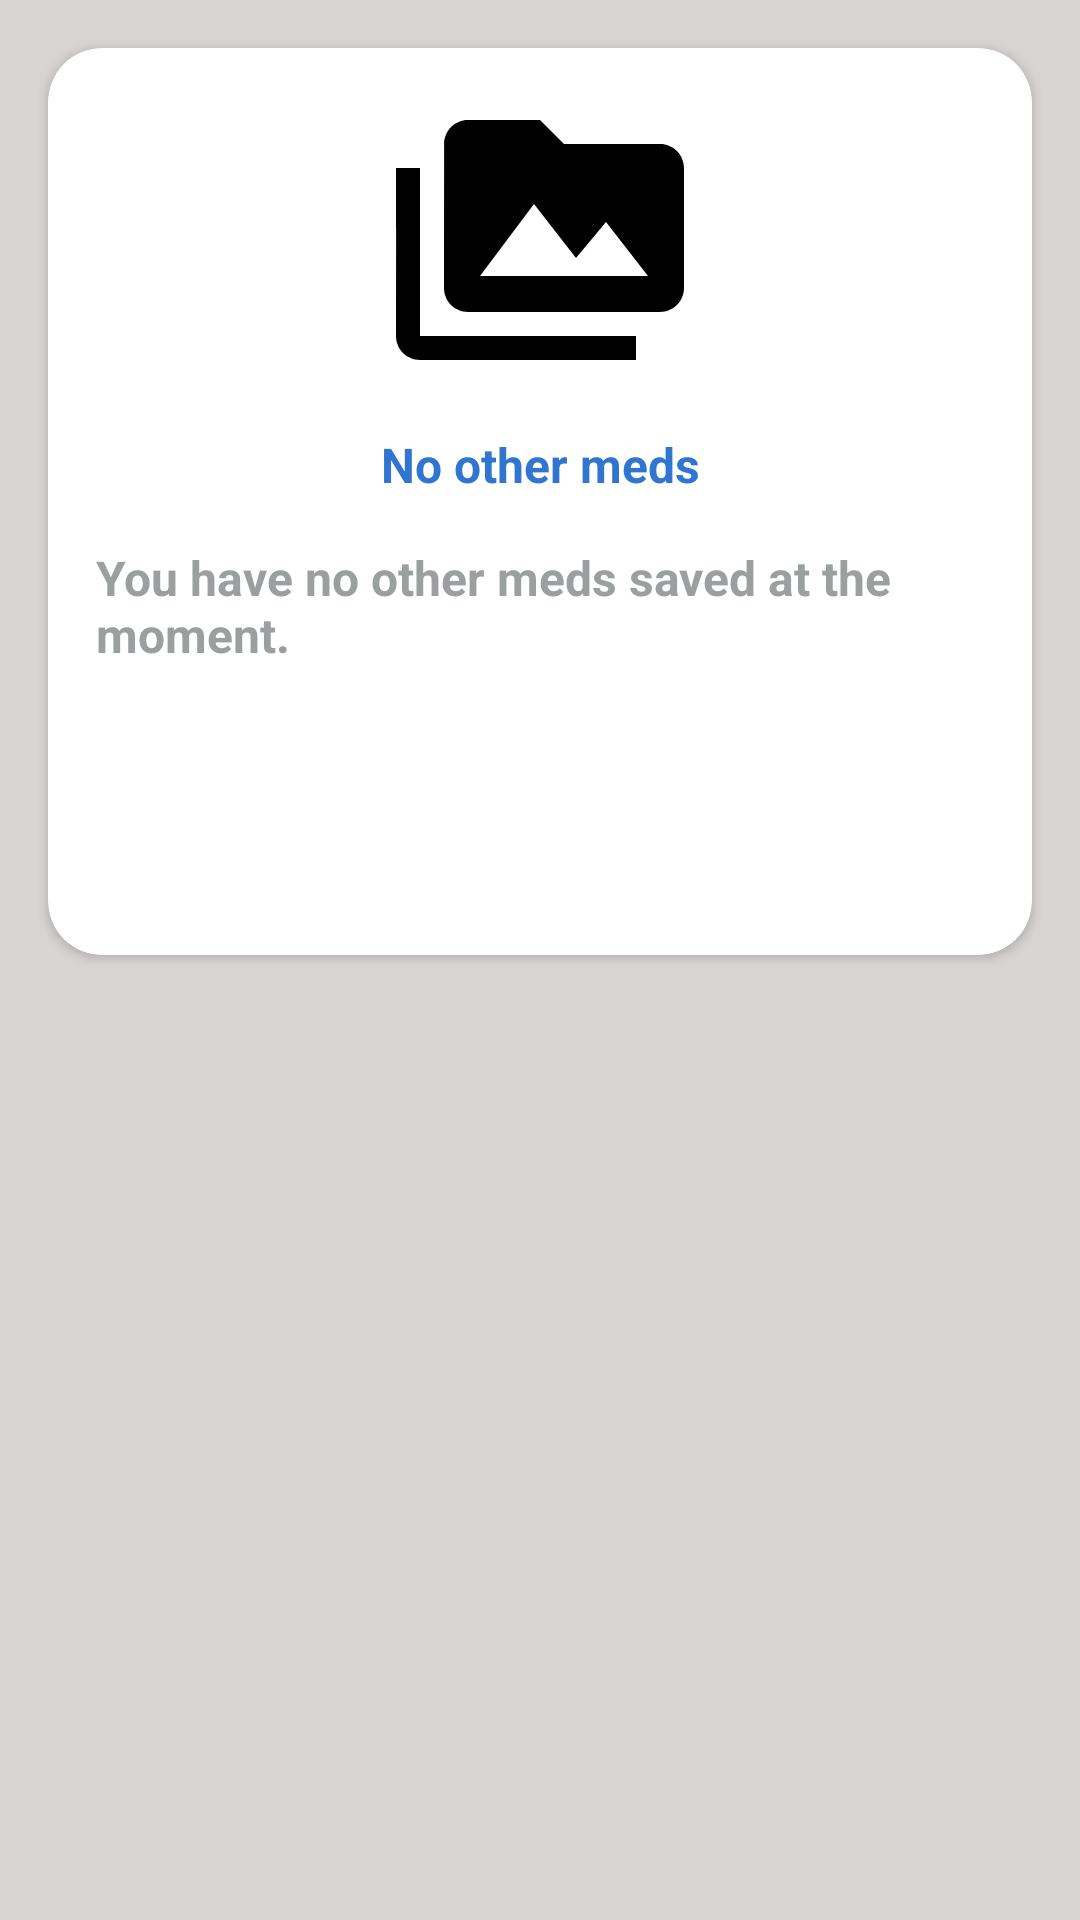

Where to tap for icons on this 1080x1920 app screen, as [x,y]:
perm media: [540,240]
